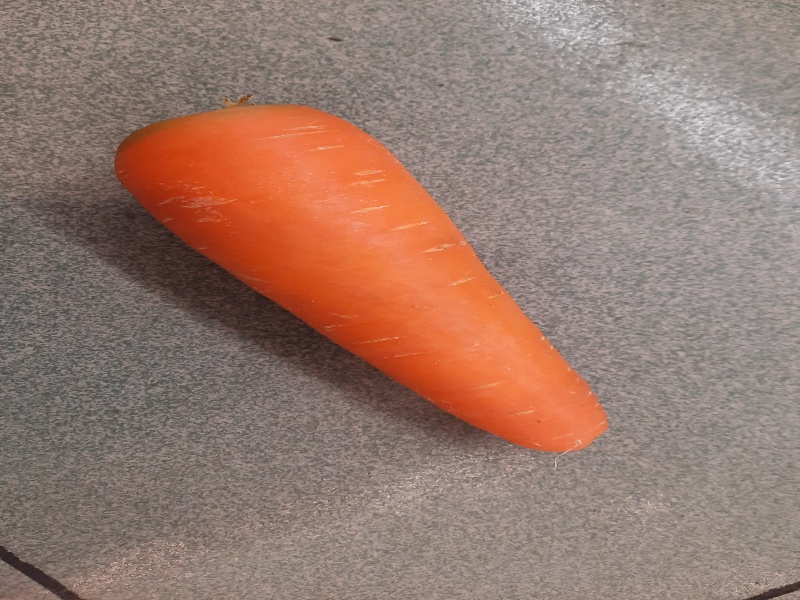vege: (104, 98, 615, 456)
